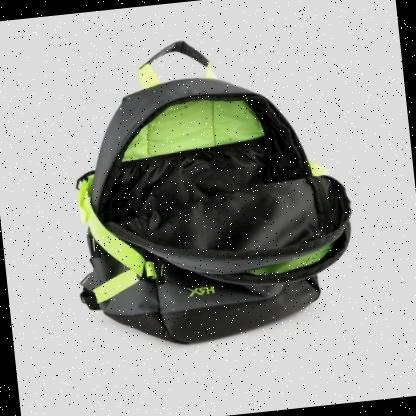bag: (48, 15, 371, 362)
